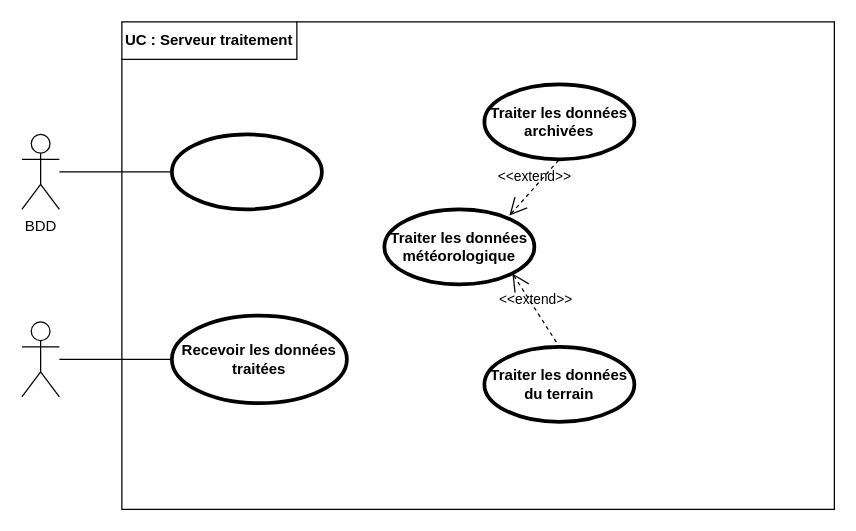
Image size: 856x531. Some labels were removed from this diagram. The centre of each missing label's shape, as x and y in pixels:
"IHM" belongs at (40,359).
"Recevoir les données archivées brutes" belongs at (246,171).
